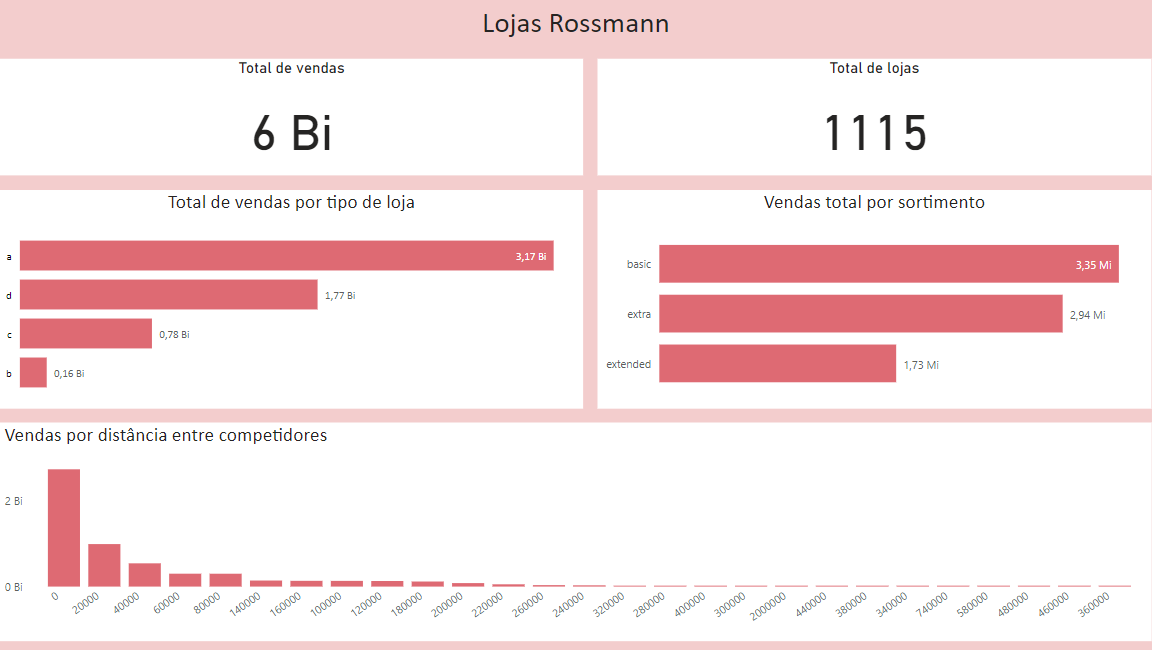

What the dashboard file says about the page in this screenshot:
{"tool":"powerbi","page":{"name":"Análise por loja","canvas":[1280,720],"ordinal":0},"visuals":[{"type":"card","title":"Total de vendas","fields":{"Values":["rossmann_cleaned_database.Vendas Total"]},"box":[0,64,640,128],"z":0},{"type":"clusteredBarChart","title":"Total de vendas por tipo de loja","fields":{"Category":["rossmann_cleaned_database.store_type"],"Y":["Sum(rossmann_cleaned_database.sales)"]},"box":[0,208,640,240],"z":1000},{"type":"clusteredBarChart","title":"Vendas total por sortimento","fields":{"Y":["rossmann_cleaned_database.Vendas Total"],"Category":["rossmann_cleaned_database.assortment"]},"box":[656,208,608,240],"z":2000},{"type":"clusteredColumnChart","title":"Vendas por distância entre competidores","fields":{"Category":["rossmann_cleaned_database.competition_distance (compartimentos)"],"Y":["rossmann_cleaned_database.Vendas Total"]},"box":[0,464,1264,240],"z":3000},{"type":"card","title":"Total de lojas","fields":{"Values":["Count(rossmann_cleaned_database.store)"]},"box":[656,64,608,128],"z":5000},{"type":"textbox","box":[0,0,1264,64],"z":6000}]}

Visuals, with their boxes in screenshot pixels (x1, y1, x2, y2), scaled from the page's 1280x720 canvas onto the 1152x650 screenshot:
"Total de vendas" card: x1=0 y1=58 x2=576 y2=173
"Total de vendas por tipo de loja" clusteredBarChart: x1=0 y1=188 x2=576 y2=404
"Vendas total por sortimento" clusteredBarChart: x1=590 y1=188 x2=1138 y2=404
"Vendas por distância entre competidores" clusteredColumnChart: x1=0 y1=419 x2=1138 y2=636
"Total de lojas" card: x1=590 y1=58 x2=1138 y2=173
textbox: x1=0 y1=0 x2=1138 y2=58
